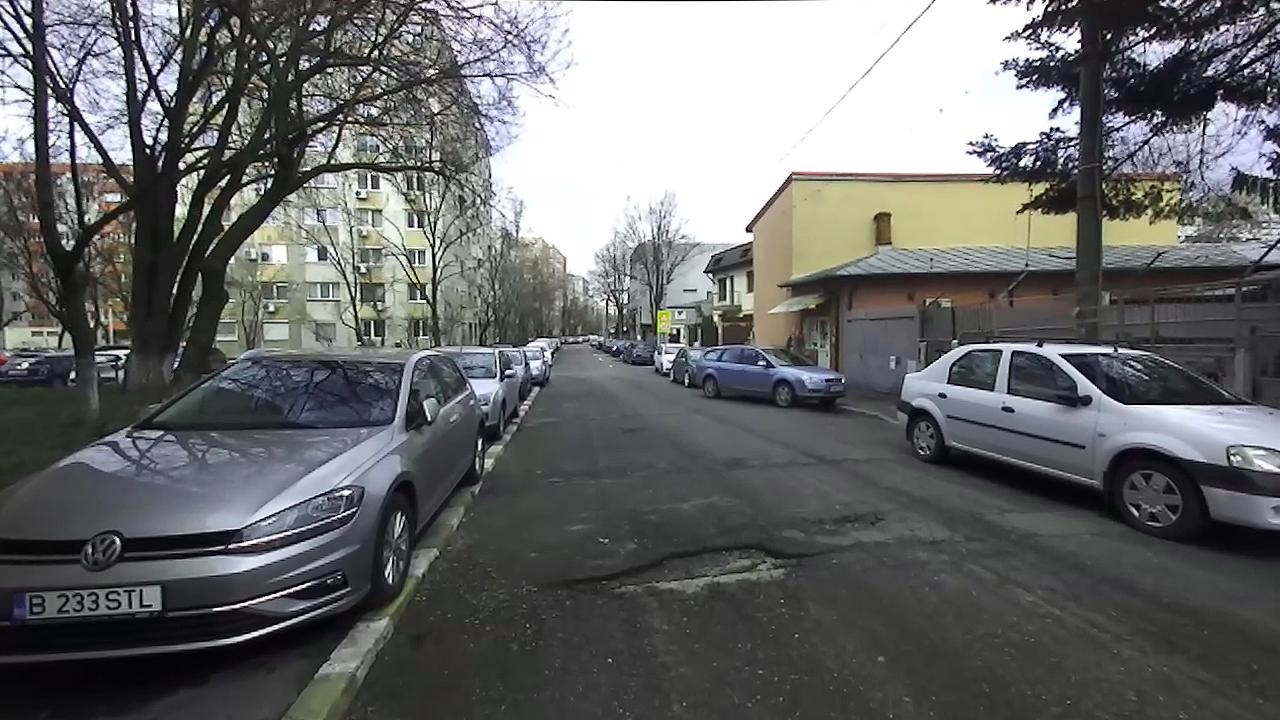pothole: (544, 539, 845, 603), (803, 503, 892, 532)
